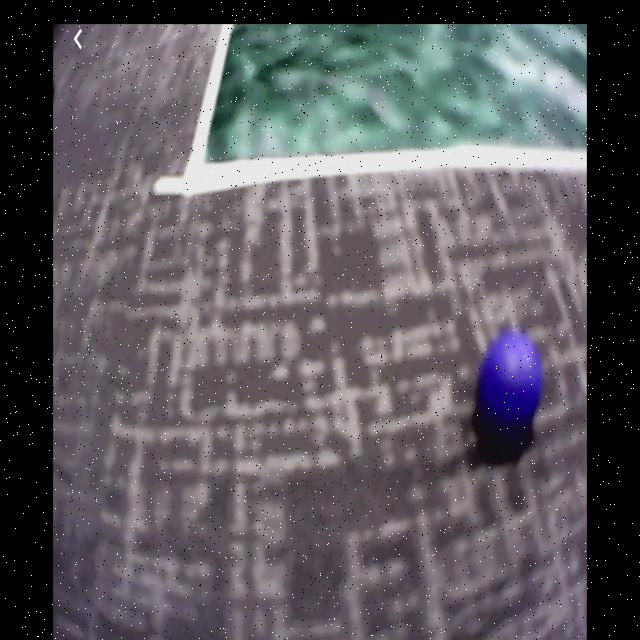ball: (479, 331, 543, 436)
